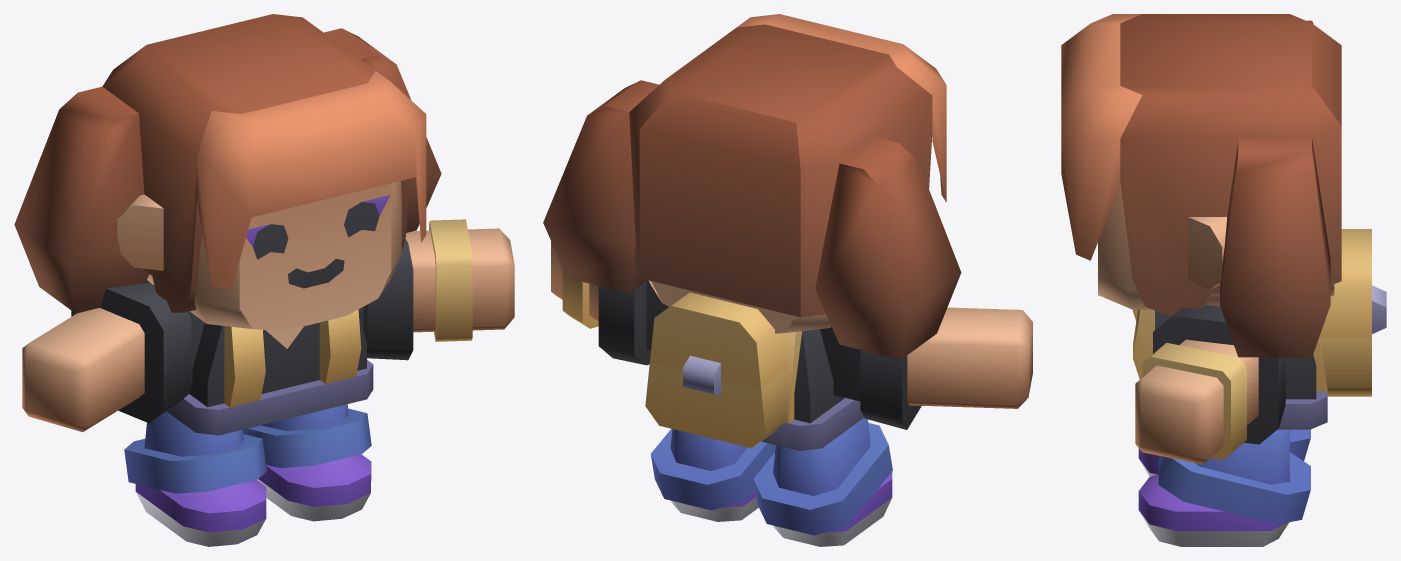
File: character-female-f.obj
The picture shows the model from 3 angles, left to right: view 1: azimuth 30°, elevation 25°; view 2: azimuth 150°, elevation 25°; view 3: azimuth 270°, elevation 25°; orthographic projection. The views are drawn at different scales.
Parts seen in each view (by area): view 1: head-mesh, body-mesh; view 2: head-mesh, body-mesh; view 3: head-mesh, body-mesh.
Part boxes in pixels (box(x1,y1,x2,y2)): head-mesh: box(14, 14, 441, 330); body-mesh: box(22, 219, 514, 546); head-mesh: box(543, 14, 961, 359); body-mesh: box(551, 241, 1032, 546); head-mesh: box(1061, 14, 1341, 357); body-mesh: box(1133, 229, 1386, 546).
Size of the model in its own units: 0.7672 by 0.6713 by 0.4411.
Materials: 1 (1 with a texture image).
